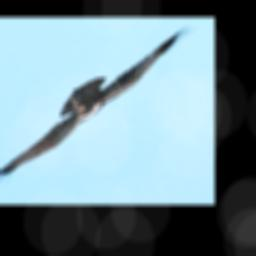Crow: (0, 23, 199, 199)
